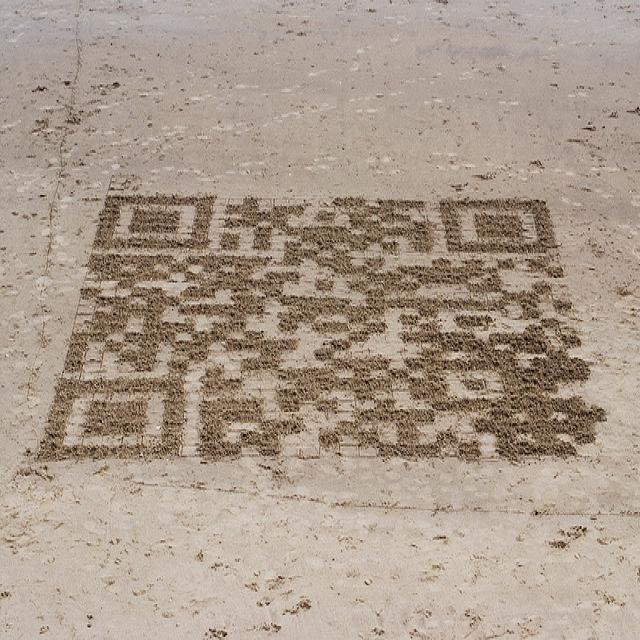qrcode: (38, 196, 598, 459)
